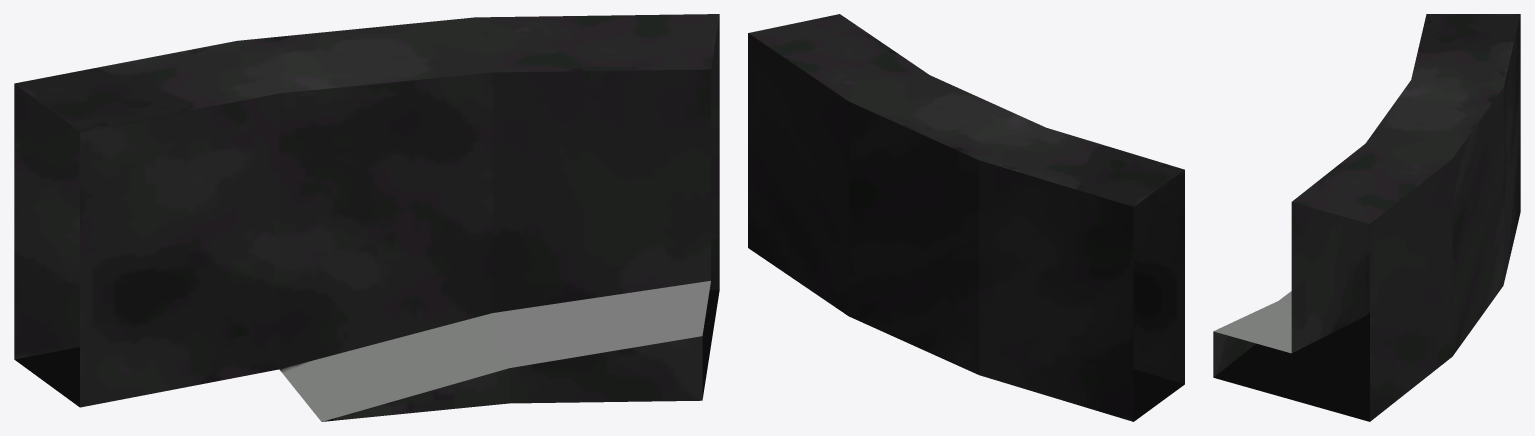
File: top_01.obj
The picture shows the model from 3 angles, left to right: view 1: azimuth 30°, elevation 25°; view 2: azimuth 150°, elevation 25°; view 3: azimuth 270°, elevation 25°; orthographic projection. The views are drawn at different scales.
Visible parts, largest first — view 1: Cylinder.035; view 2: Cylinder.035; view 3: Cylinder.035.
Boxes of the visible parts, x1,y1,x2,y2 form: Cylinder.035: (14, 14, 719, 421); Cylinder.035: (748, 14, 1184, 421); Cylinder.035: (1213, 14, 1520, 421).
Bounding box in the file's own units: 21.4 × 9.41 × 13.24.
